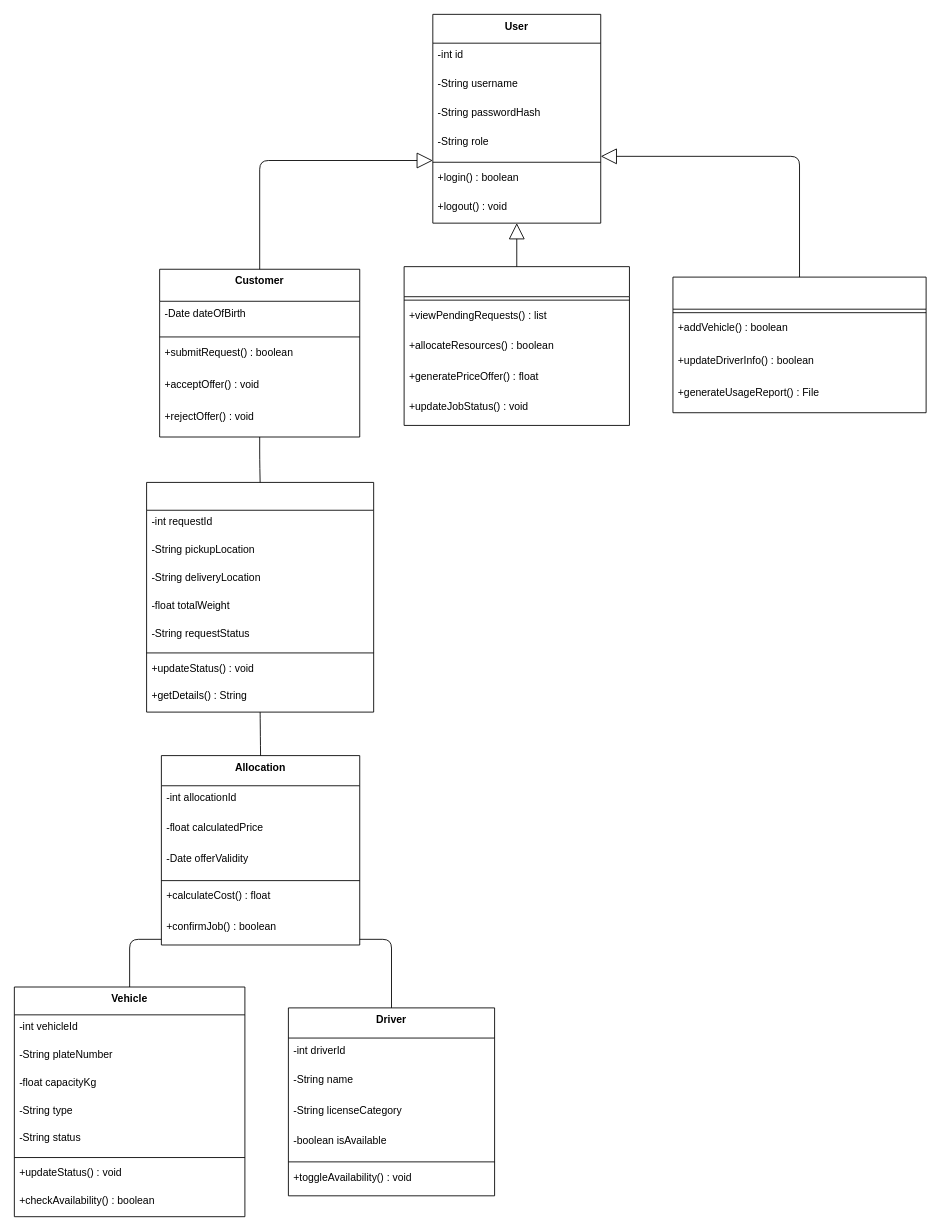
Some shapes in this 940 by 1231 pixel diagram are drawn without their labels. Here are the shapes that lost their labels. From the top down, the box of each, then its label:
(403, 266, 629, 425): Staff
(672, 276, 926, 413): Administrator
(146, 482, 374, 712): TransportRequest
